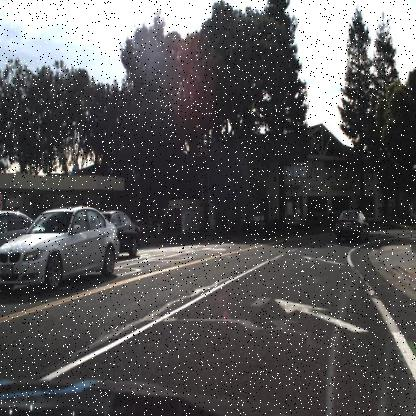car: (0, 207, 119, 292), (104, 206, 141, 257), (330, 203, 370, 245)
